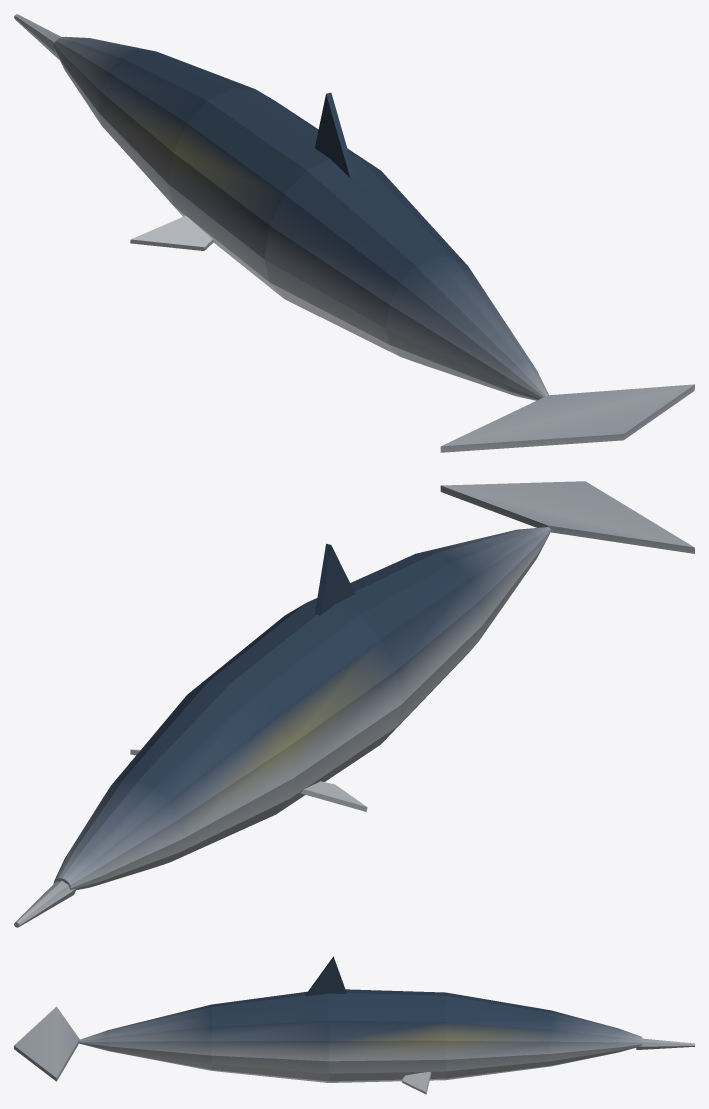
File: dolphin.glb
3 renders of one model, top to bottom at view 1: azimuth 30°, elevation 25°; view 2: azimuth 150°, elevation 25°; view 3: azimuth 270°, elevation 25°, orthographic. The views are drawn at different scales.
Parts seen in each view (by area): view 1: commondolphin_male; view 2: commondolphin_male; view 3: commondolphin_male.
Boxes of the visible parts, x1,y1,x2,y2 form: commondolphin_male: [14, 14, 694, 452]; commondolphin_male: [14, 481, 694, 927]; commondolphin_male: [14, 956, 694, 1094].
Bounding box in the file's own units: 2.9 × 2.29 × 11.62.
